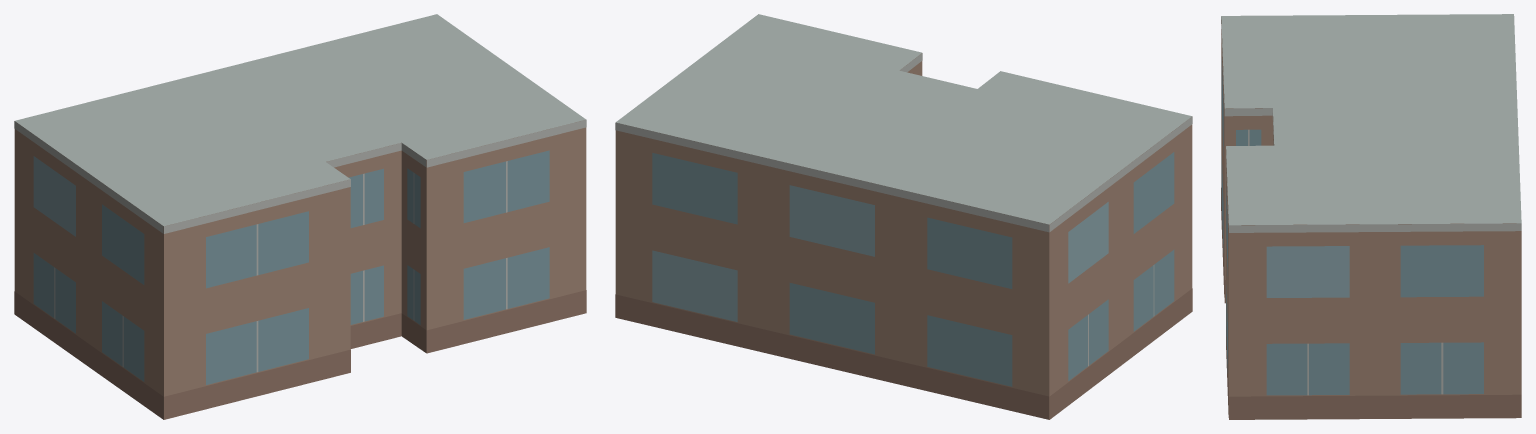
File: survey-upis-32712394.glb
The picture shows the model from 3 angles, left to right: view 1: azimuth 30°, elevation 25°; view 2: azimuth 150°, elevation 25°; view 3: azimuth 270°, elevation 25°; orthographic projection.
Parts seen in each view (by area): view 1: survey-upis-32712394.tmp; view 2: survey-upis-32712394.tmp; view 3: survey-upis-32712394.tmp.
Boxes of the visible parts, <box> form: survey-upis-32712394.tmp: <box>14,14,586,419</box>; survey-upis-32712394.tmp: <box>615,14,1192,419</box>; survey-upis-32712394.tmp: <box>1221,14,1521,419</box>.
Bounding box in the file's own units: 14.2 × 6.1 × 8.54.
